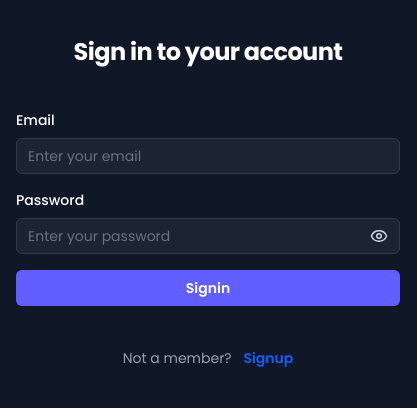
Test case: LoginForm › shows validation errors for invalid email and short password
Step 1. Type "not-an-email" into the field labelled "Email" → (208, 156), box [16, 138, 400, 174]
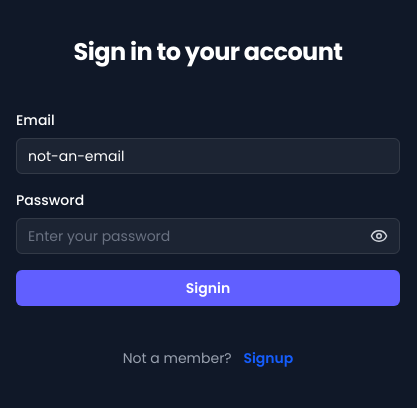
Step 2. Type "123" into the password field labelled "Password" → (208, 236), box [16, 218, 400, 254]
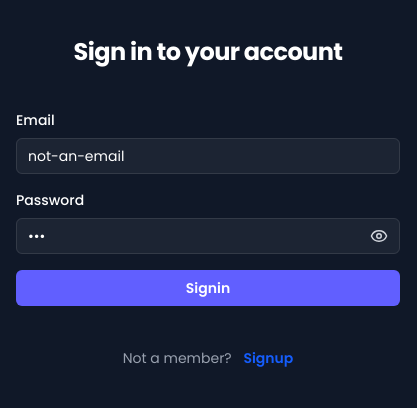
Step 3. Submit the form "Email Password Signin", box [16, 110, 400, 306]
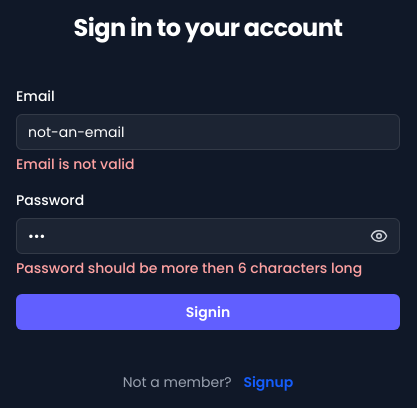
Check: the text "Email is not valid" is shown, box [16, 154, 134, 174]
Check: the text "Password should be more then 6 characters long" is shown, box [16, 258, 400, 278]
